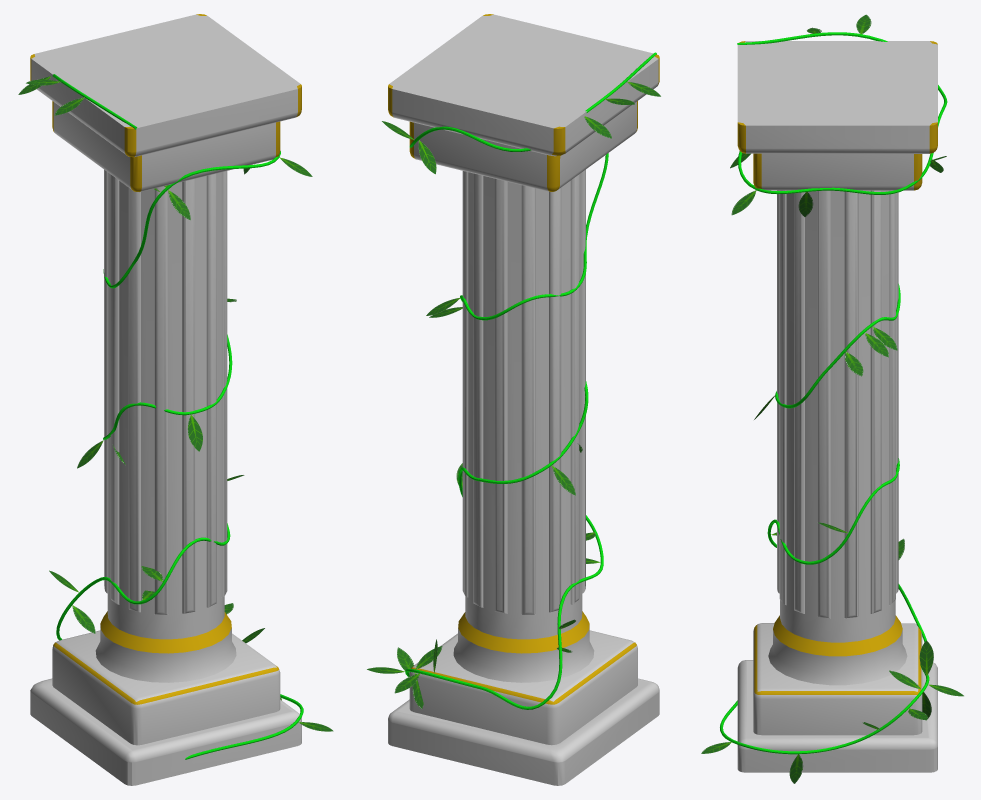
The model's file is collume1.fbx.
3 renders of one model, left to right at view 1: azimuth 30°, elevation 25°; view 2: azimuth 150°, elevation 25°; view 3: azimuth 270°, elevation 25°, orthographic.
Parts seen in each view (by area): view 1: Cylinder; view 2: Cylinder; view 3: Cylinder.
Part boxes in pixels (bbox=[...]): Cylinder: bbox=[18, 14, 333, 785]; Cylinder: bbox=[367, 14, 660, 785]; Cylinder: bbox=[701, 14, 963, 783].
Size of the model in its own units: 138 by 365 by 135.
